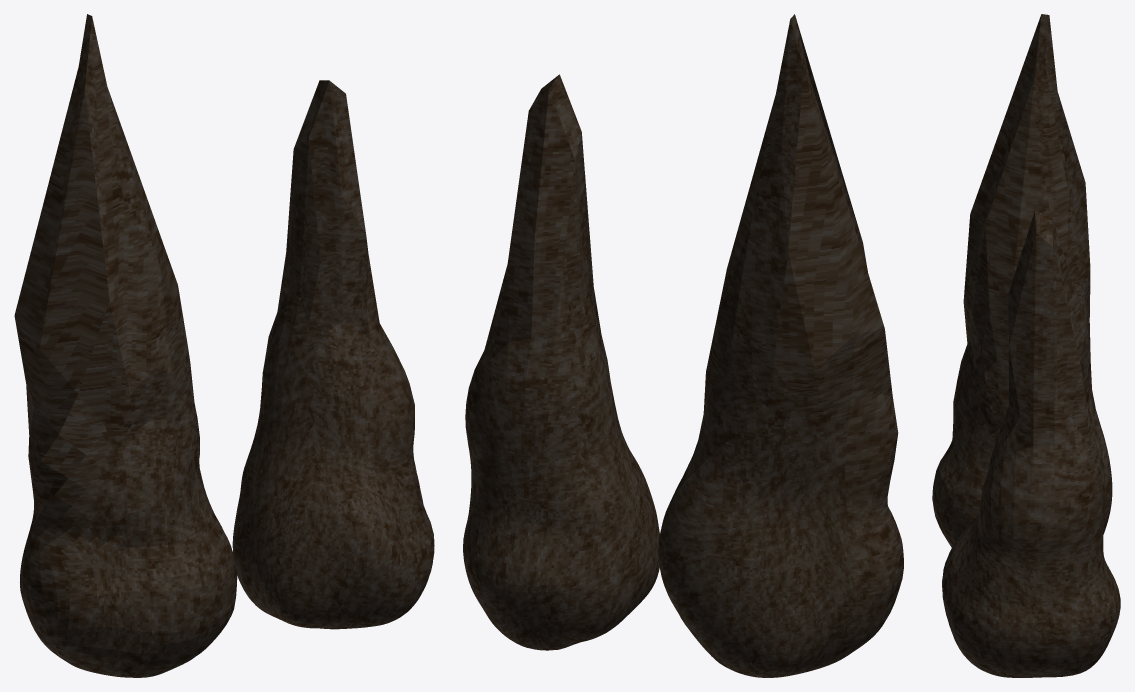
The model's file is stalakmite3.glb.
3 renders of one model, left to right at view 1: azimuth 30°, elevation 25°; view 2: azimuth 150°, elevation 25°; view 3: azimuth 270°, elevation 25°, orthographic. The views are drawn at different scales.
Visible parts, largest first — view 1: Cube.004; view 2: Cube.004; view 3: Cube.004.
Part boxes in pixels (left/top/right/bottom): Cube.004: left=14, top=14, right=434, bottom=677; Cube.004: left=463, top=14, right=903, bottom=677; Cube.004: left=932, top=14, right=1120, bottom=677.
Bounding box in the file's own units: 0.7782 × 1.23 × 0.3747.
1 material, 1 textured.
